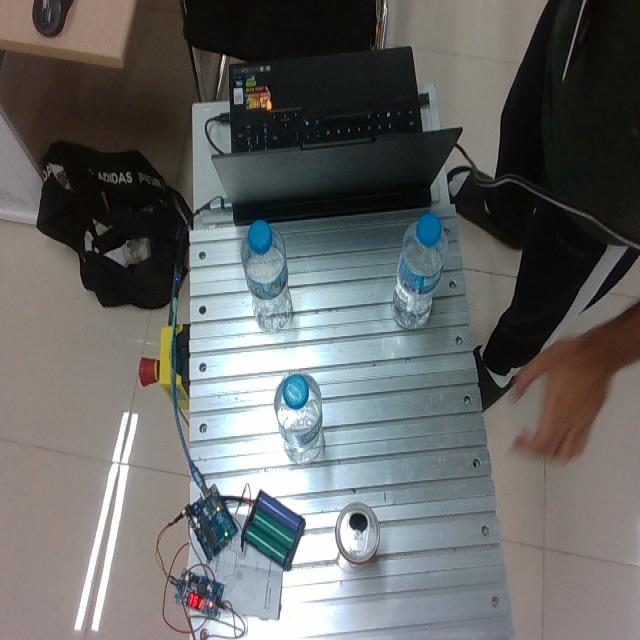coca: (335, 501, 380, 568)
lavie: (391, 213, 447, 331), (240, 220, 292, 332), (274, 371, 324, 464)
